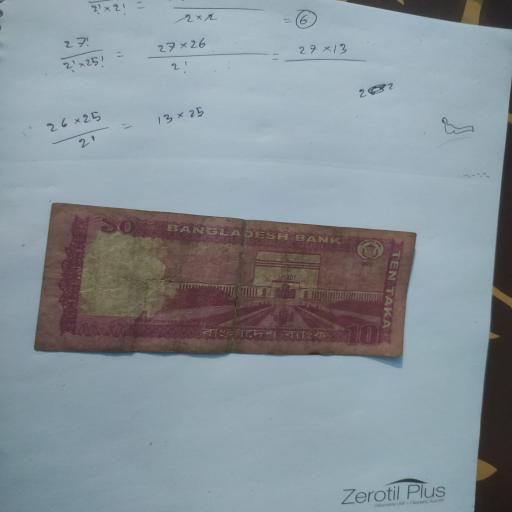10taka: (35, 204, 415, 356)
